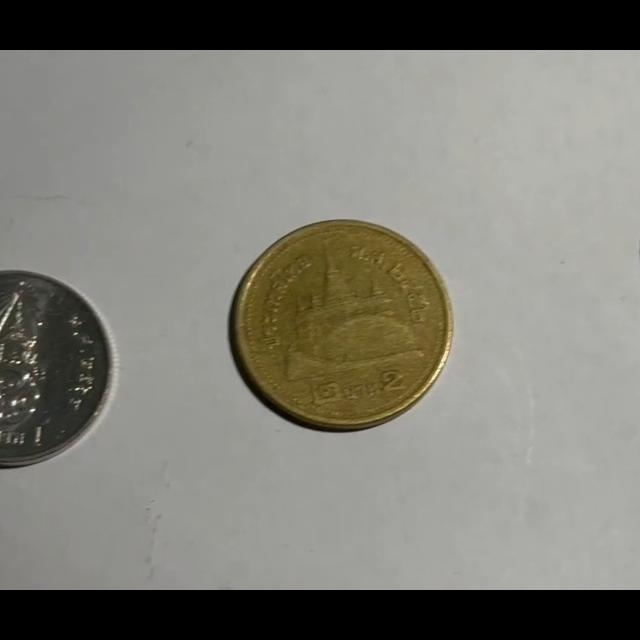1-baht: (0, 270, 115, 469)
2-baht: (229, 221, 449, 431)
